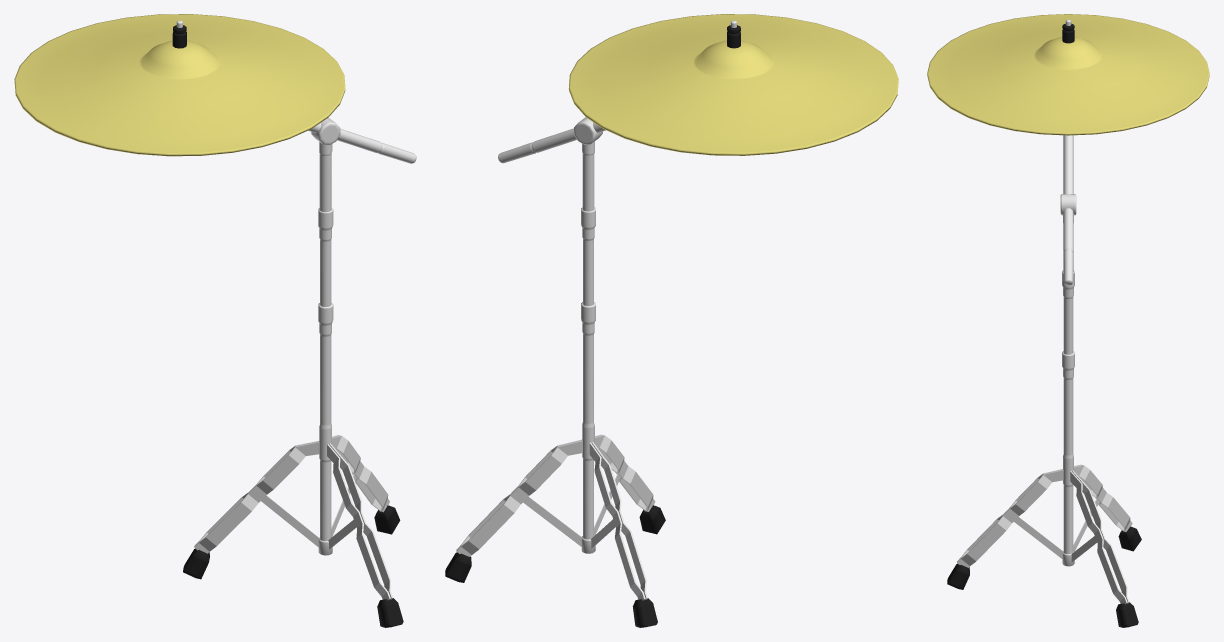
File: Crash.fbx
3 renders of one model, left to right at view 1: azimuth 30°, elevation 25°; view 2: azimuth 150°, elevation 25°; view 3: azimuth 270°, elevation 25°, orthographic. The views are drawn at different scales.
Visible parts, largest first — view 1: Crash_LOD0; view 2: Crash_LOD0; view 3: Crash_LOD0.
Boxes of the visible parts, x1=… form: Crash_LOD0: x1=14, y1=14, x2=416, y2=627; Crash_LOD0: x1=445, y1=14, x2=898, y2=627; Crash_LOD0: x1=927, y1=14, x2=1209, y2=627.
Size of what is drawn, in the model's own units: 202 by 287 by 146.
